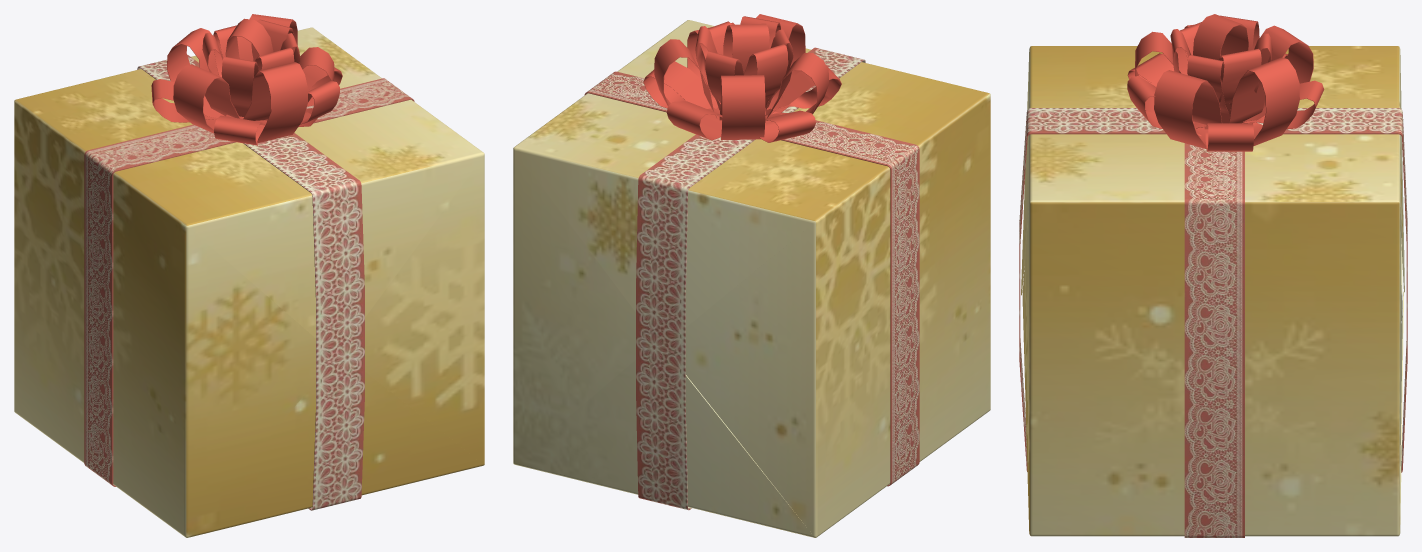
Rendered from mystery_box.glb.
3 renders of one model, left to right at view 1: azimuth 30°, elevation 25°; view 2: azimuth 150°, elevation 25°; view 3: azimuth 270°, elevation 25°, orthographic. The views are drawn at different scales.
Parts seen in each view (by area): view 1: model; view 2: model; view 3: model.
Part boxes in pixels (x1,y1,x2,y2): model: [14, 14, 484, 537]; model: [513, 14, 990, 537]; model: [1019, 14, 1407, 537].
Bounding box in the file's own units: 0.806 × 1.05 × 0.8377.
Materials: 3 (2 with a texture image).
